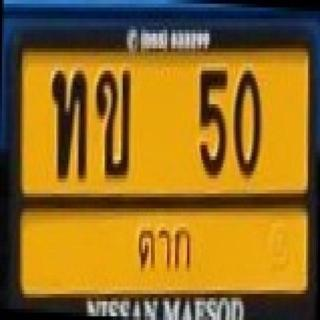A02: (92, 64, 136, 183)
A23: (45, 63, 92, 185)
N00: (233, 65, 267, 178)
N05: (191, 63, 232, 180)
P69: (132, 222, 198, 277)
